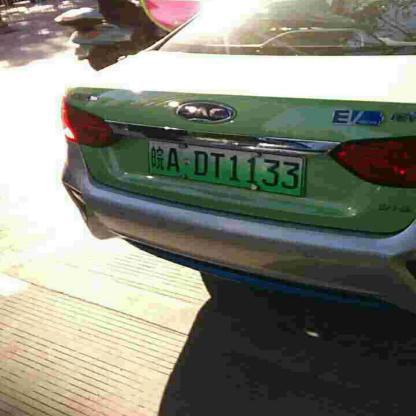lp: (149, 140, 303, 196)
